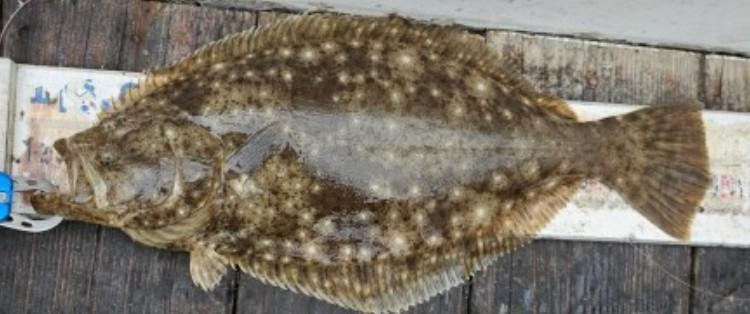fish: (20, 12, 714, 313)
